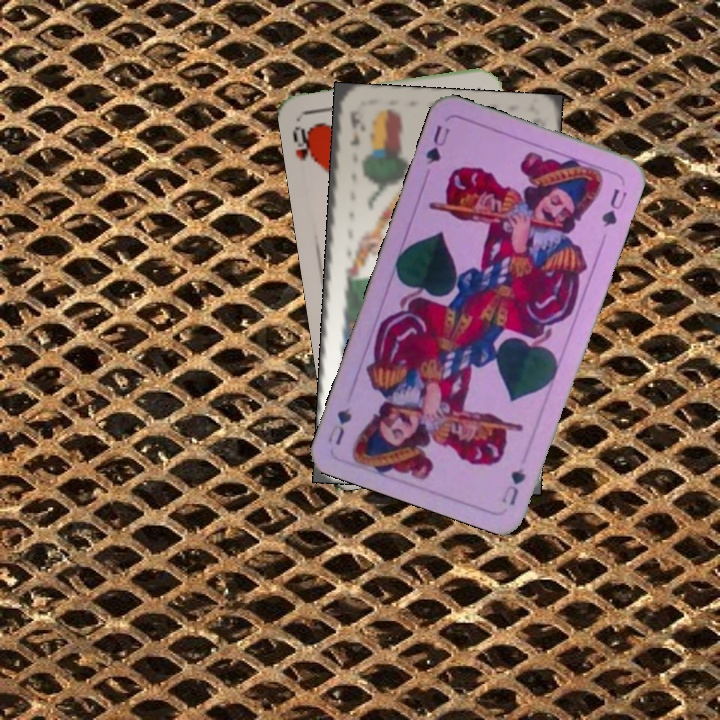EK: (346, 108, 366, 148)
GU: (421, 121, 453, 168), (497, 464, 529, 508)
HO: (288, 122, 318, 164)
